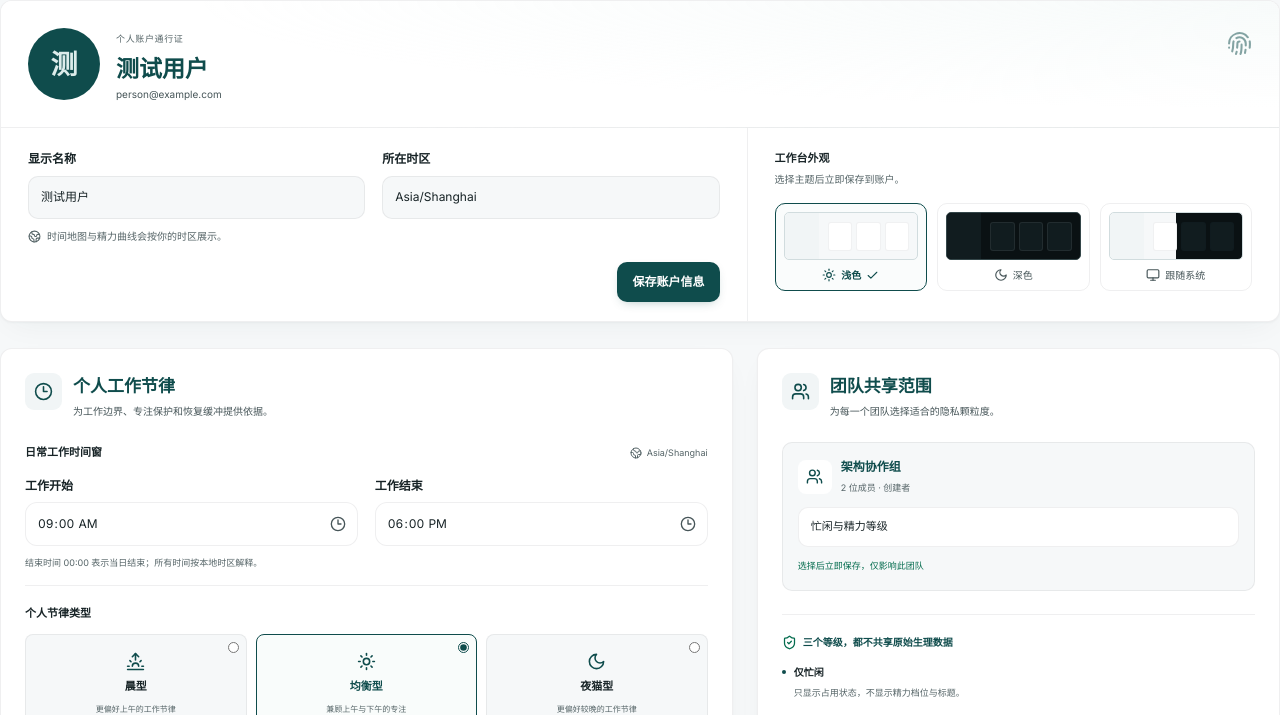
Test case: account, rhythm and workspace privacy settings › saves workspace privacy independently to the corresponding workspace endpoint
The width and height of the screenshot is (1280, 715).
Select "仅忙闲" in the dropdown named "架构协作组的共享范围": point(1018, 527) x1=798 y1=507 x2=1239 y2=547
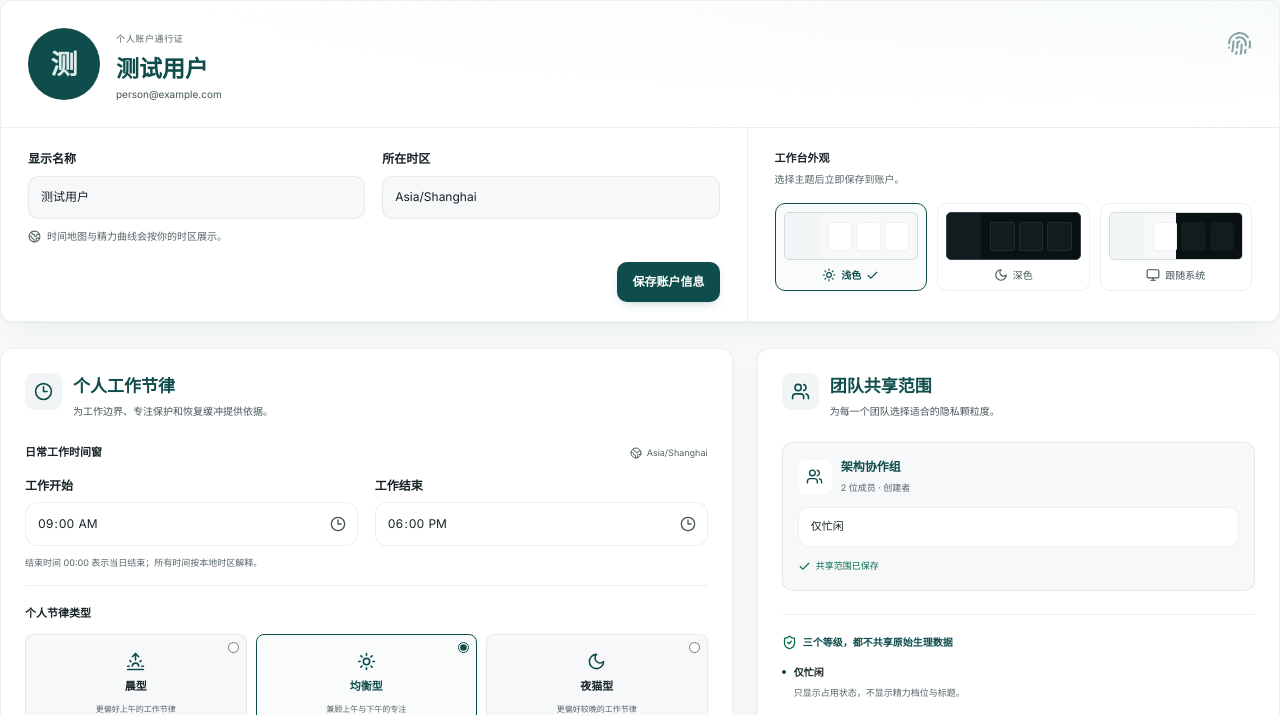
Now the text "共享范围已保存" is shown, box x1=798 y1=560 x2=879 y2=572
